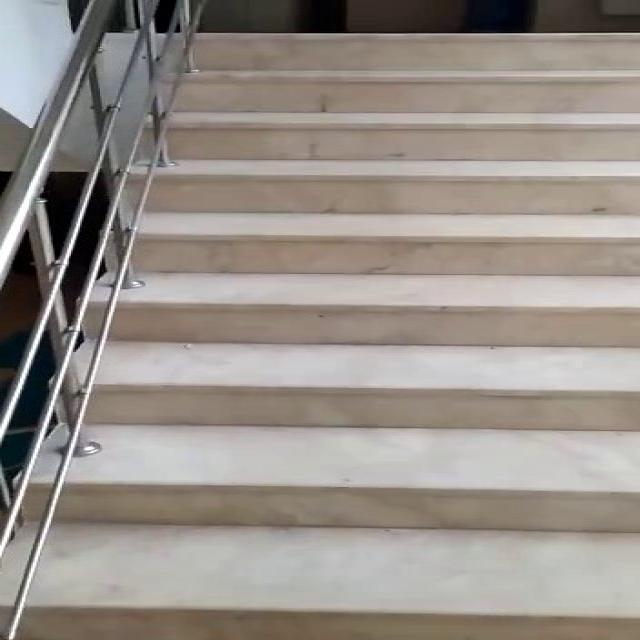stair: (39, 21, 640, 640)
